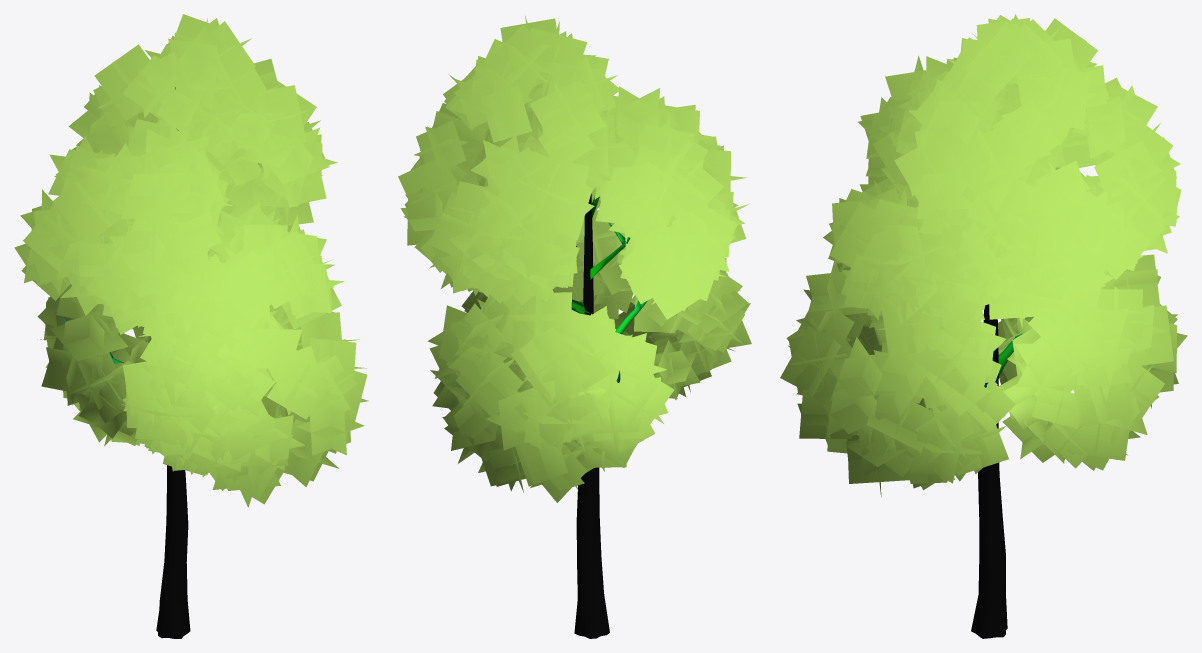
Rendered from Tree2 1.fbx.
The picture shows the model from 3 angles, left to right: view 1: azimuth 30°, elevation 25°; view 2: azimuth 150°, elevation 25°; view 3: azimuth 270°, elevation 25°; orthographic projection. The views are drawn at different scales.
Visible parts, largest first — view 1: Tree_LOD0; view 2: Tree_LOD0; view 3: Tree_LOD0.
Part boxes in pixels (x1,y1,x2,y2): Tree_LOD0: (14, 14, 368, 638); Tree_LOD0: (398, 15, 751, 638); Tree_LOD0: (780, 14, 1187, 638).
Size of what is drawn, in the model's own units: 1280 by 2206 by 1170.
